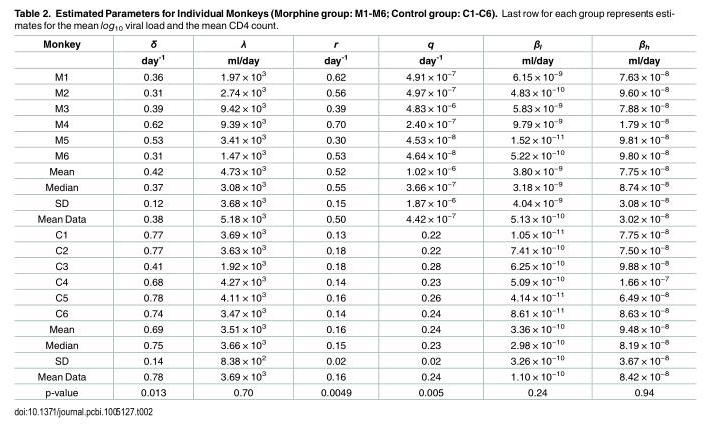table: (36, 37, 668, 397)
table column: (482, 37, 591, 397), (378, 37, 482, 397), (192, 37, 292, 397), (292, 37, 378, 397), (112, 37, 192, 397), (591, 37, 668, 397), (36, 37, 112, 397)
table column header: (36, 37, 668, 67)
table row: (36, 50, 668, 67), (36, 67, 668, 83), (36, 83, 668, 99), (36, 114, 668, 130), (36, 130, 668, 146), (36, 146, 668, 162), (36, 177, 668, 193), (36, 193, 668, 209), (36, 209, 668, 225), (36, 225, 668, 241), (36, 256, 668, 272), (36, 272, 668, 288), (36, 288, 668, 304), (36, 304, 668, 320), (36, 335, 668, 351), (36, 351, 668, 367), (36, 367, 668, 383), (36, 99, 668, 114), (36, 162, 668, 177), (36, 241, 668, 256), (36, 320, 668, 335), (36, 383, 668, 397), (36, 37, 668, 50)
table spanning cell: (482, 37, 591, 67), (378, 37, 482, 67), (192, 37, 292, 67), (292, 37, 378, 67), (112, 37, 192, 67), (591, 37, 668, 67), (36, 37, 112, 67)
